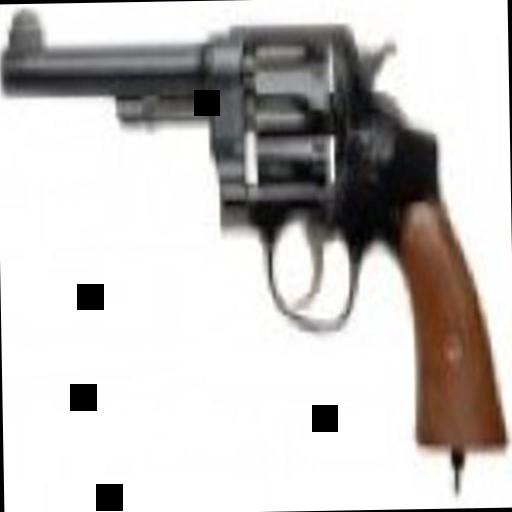Handgun: (6, 7, 504, 455)
